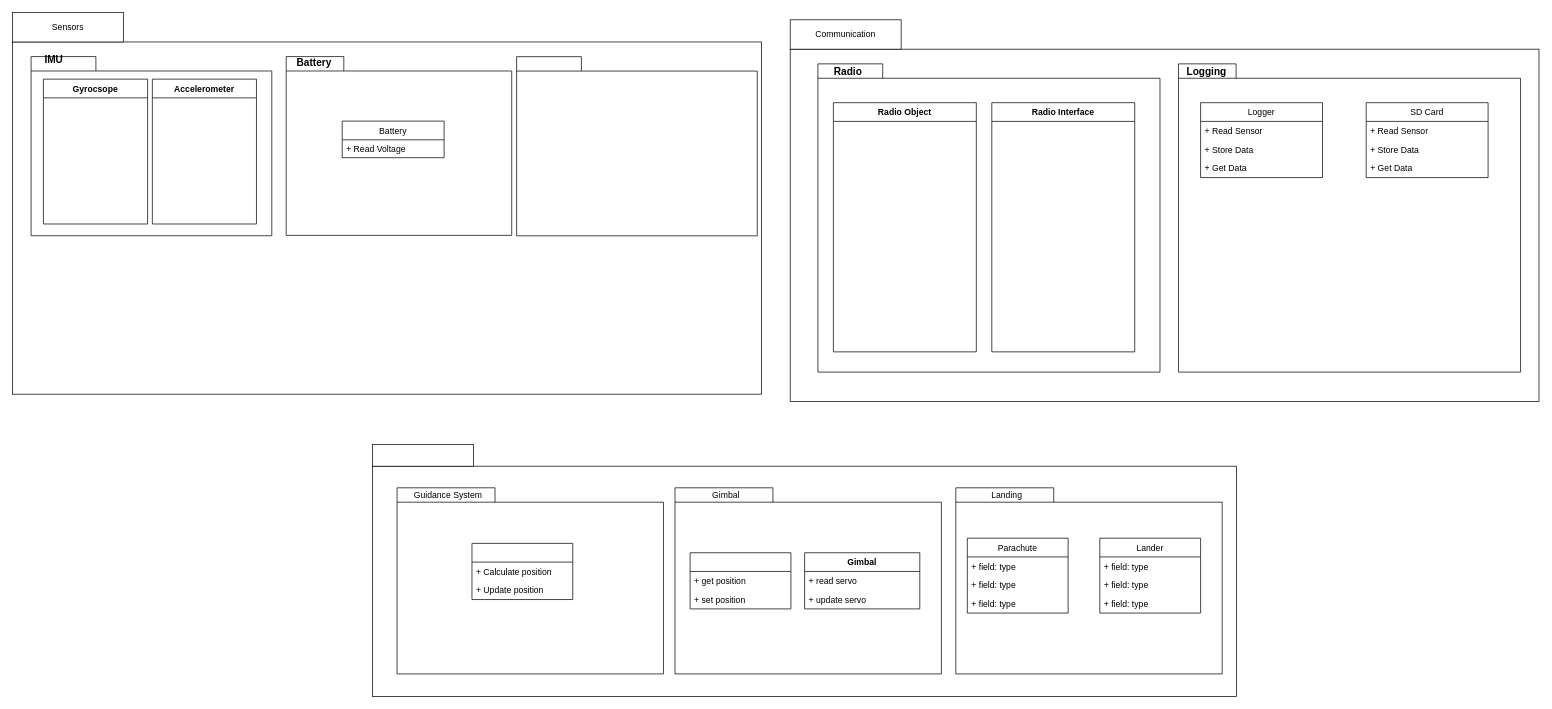
This 1552x709 diagram has some shape labels left out. The box of each missing label's shape, as (x1, y1, x2, y2) in pixels:
Control: (372, 444, 473, 466)
GPS: (516, 56, 757, 236)
PID: (471, 543, 573, 600)
Servo: (689, 552, 791, 609)
